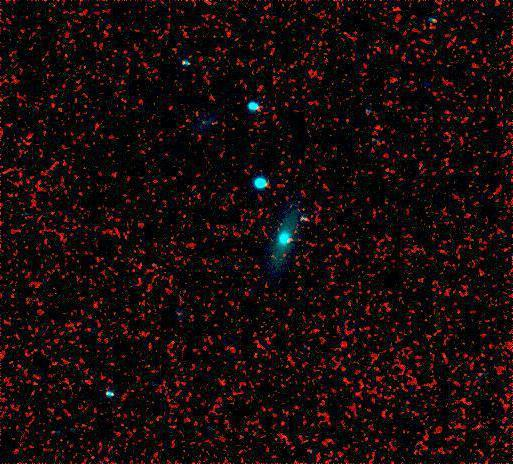star: (203, 108, 233, 138)
